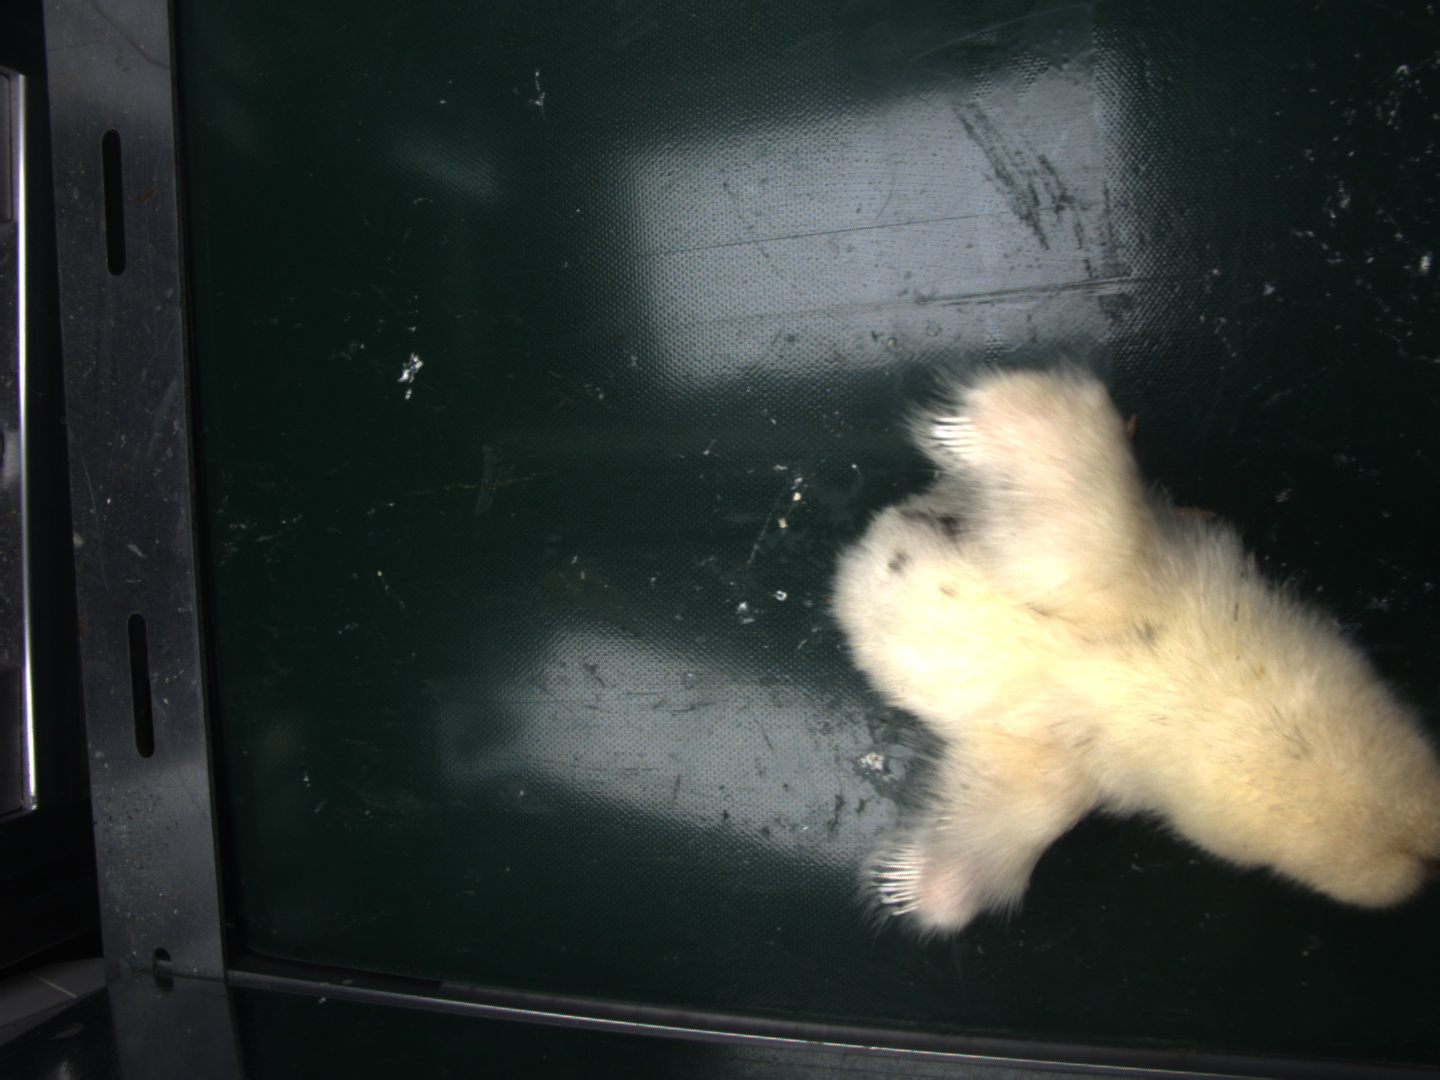male: (884, 846, 927, 916)
